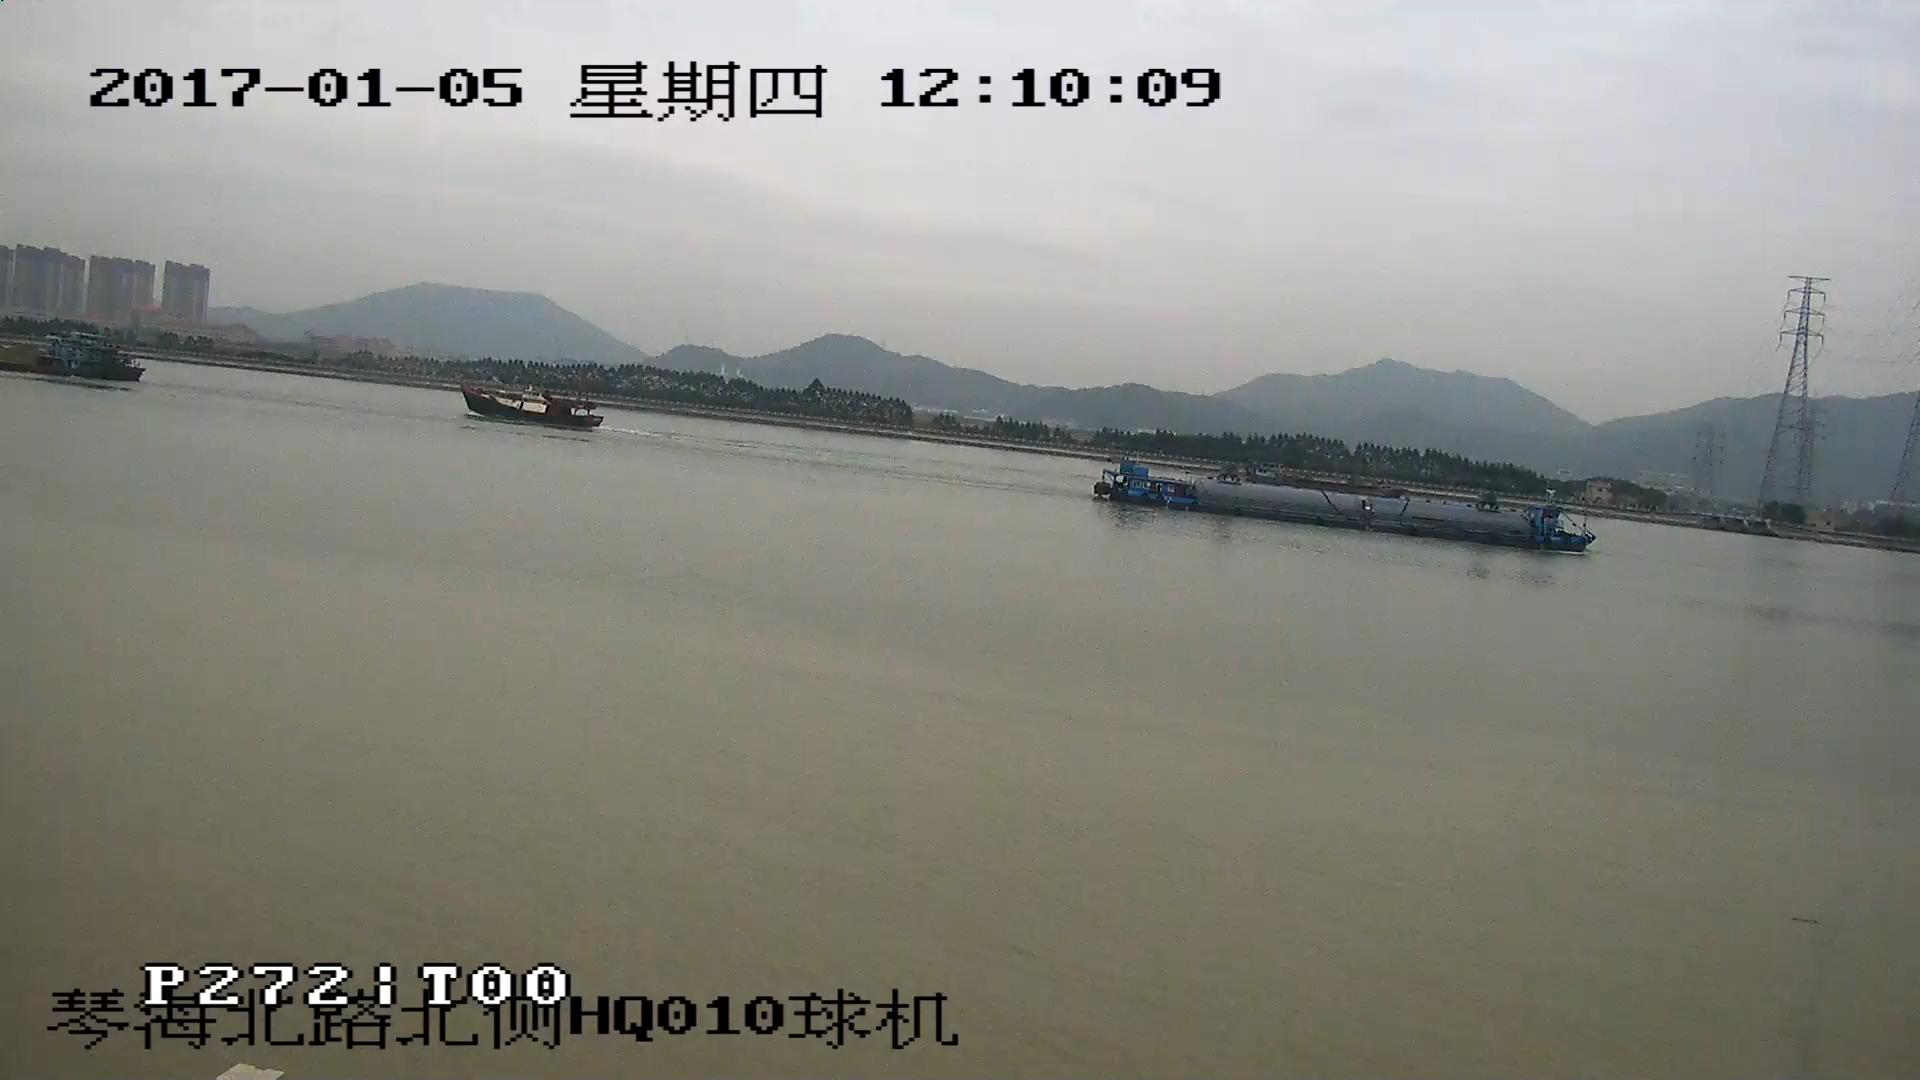bulk cargo carrier: (1101, 460, 1584, 546)
fishing boat: (465, 382, 604, 429)
